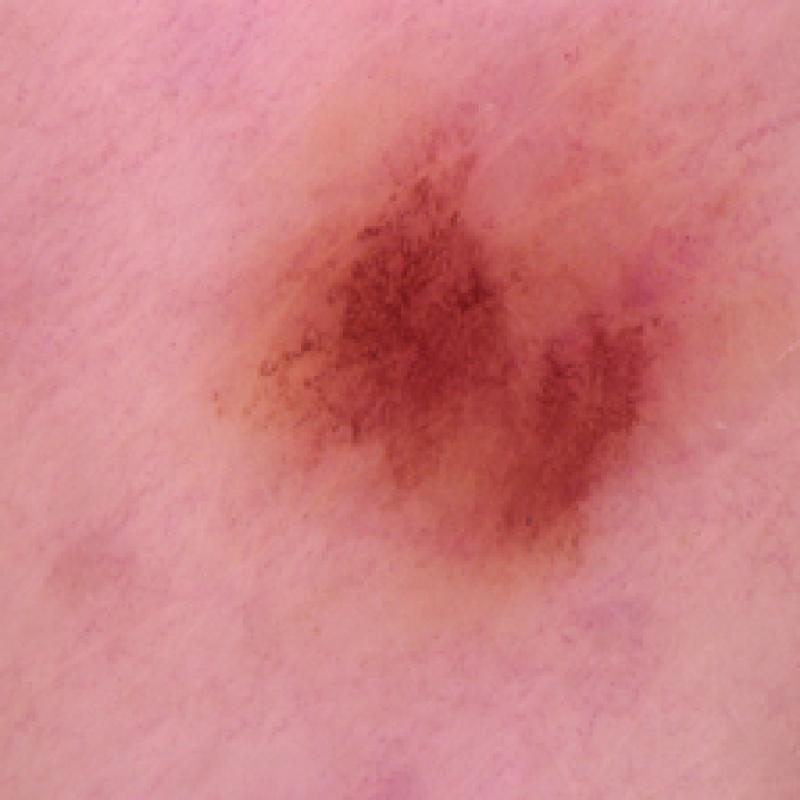benign: (199, 115, 699, 594)
